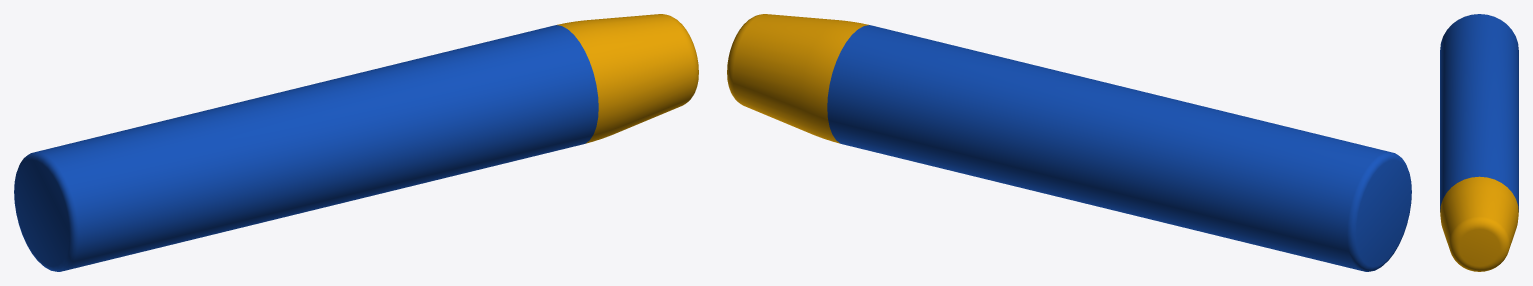
File: dart.glb
3 renders of one model, left to right at view 1: azimuth 30°, elevation 25°; view 2: azimuth 150°, elevation 25°; view 3: azimuth 270°, elevation 25°, orthographic. The views are drawn at different scales.
Visible parts, largest first — view 1: Cylinder; view 2: Cylinder; view 3: Cylinder.
Part boxes in pixels (left/top/right/bottom): Cylinder: left=14, top=14, right=698, bottom=271; Cylinder: left=727, top=14, right=1411, bottom=271; Cylinder: left=1440, top=14, right=1518, bottom=271.
Size of the model in its own units: 0.072 by 0.012 by 0.012.
